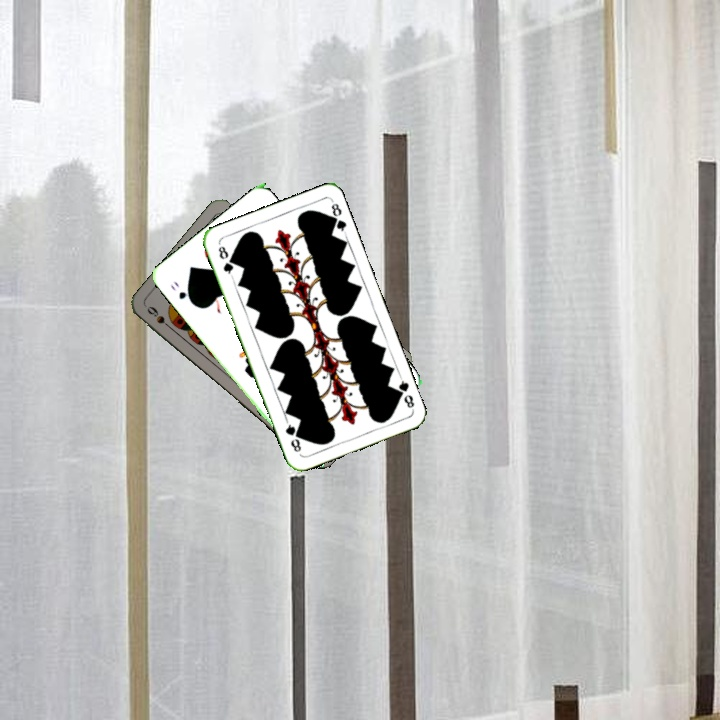G8: (391, 373, 417, 412), (214, 242, 236, 279)
GO: (166, 277, 197, 307)
S9: (143, 302, 177, 334)
